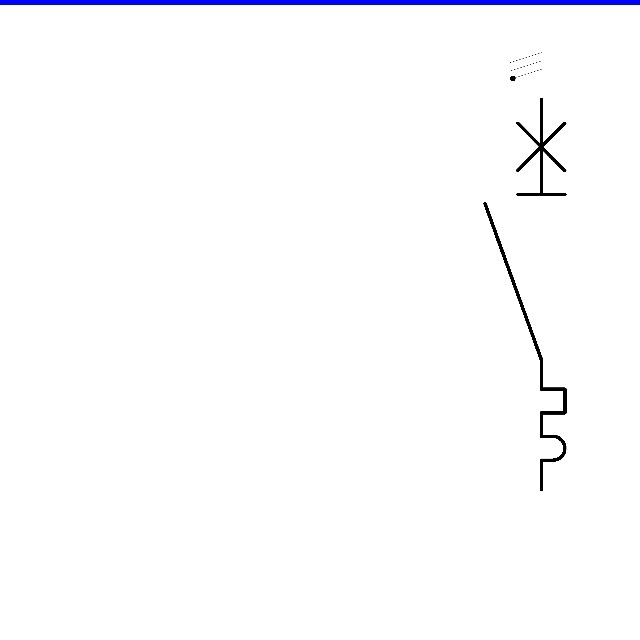interruptor_termomagnetico: (475, 89, 575, 500)
